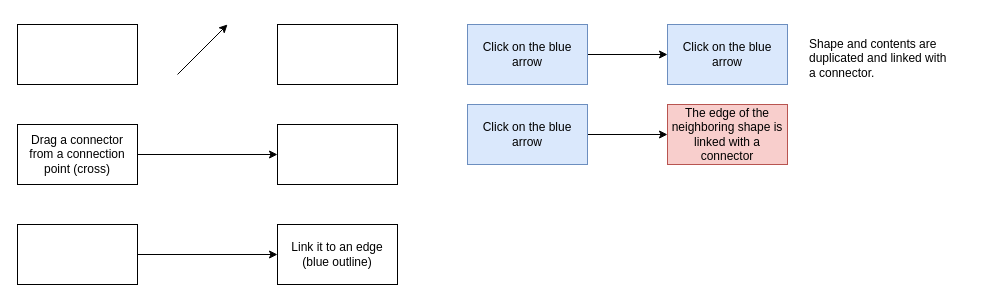
The diagram is 985 pixels wide and 302 high, and some of its shapes have lost their labels. Here are the shapes that lost their labels. From the top down, the box of each, then its label:
(276, 124, 398, 184): Link it to another connection point (cross in green circle)
(16, 224, 138, 284): Drag a connector from a blue arrow
